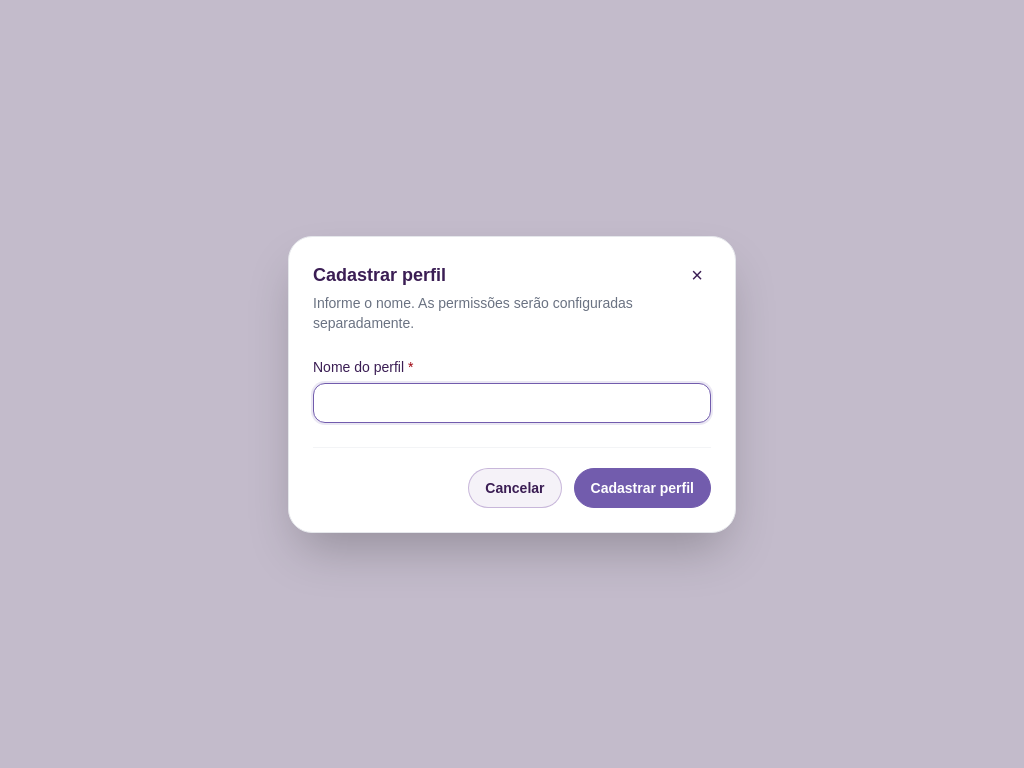
Test: Profile modal validation and closing › shows a duplicate name error beside the field without closing
Type "Operações" into the field at [512, 402], box [313,382,711,422]
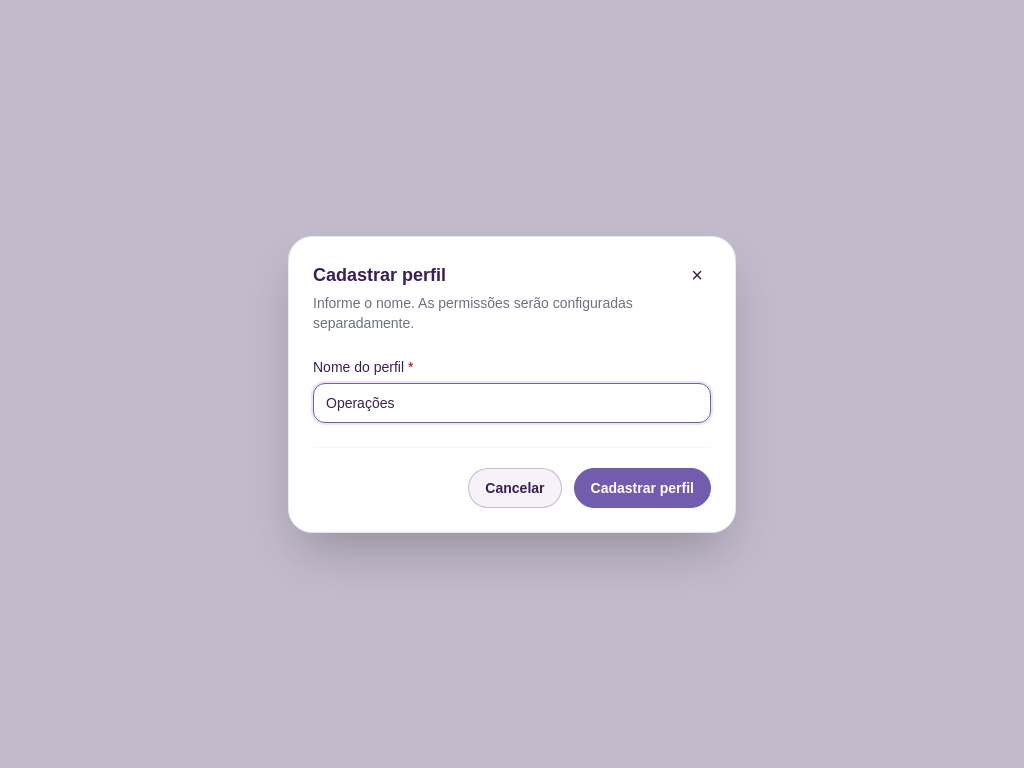
Click the button "Cadastrar perfil" at [642, 488], box [574,468,711,508]
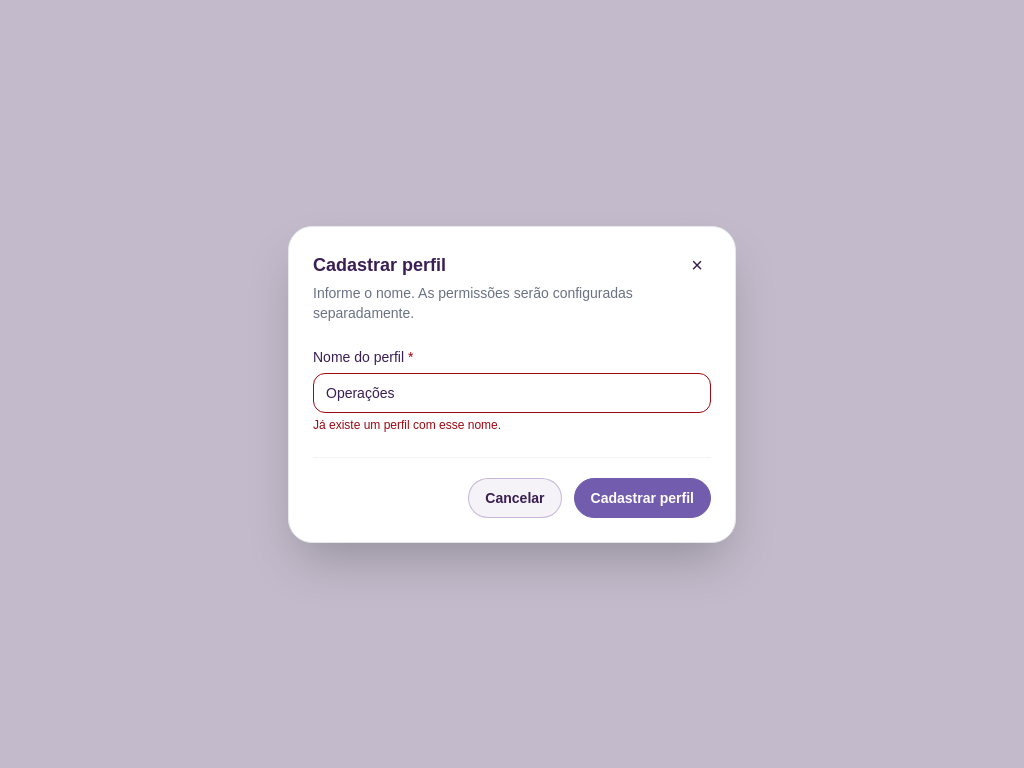
Expected: the dialog is shown, [288,226,736,542]
Expected: the text "Já existe um perfil com esse nome." is shown, [313,418,501,432]
